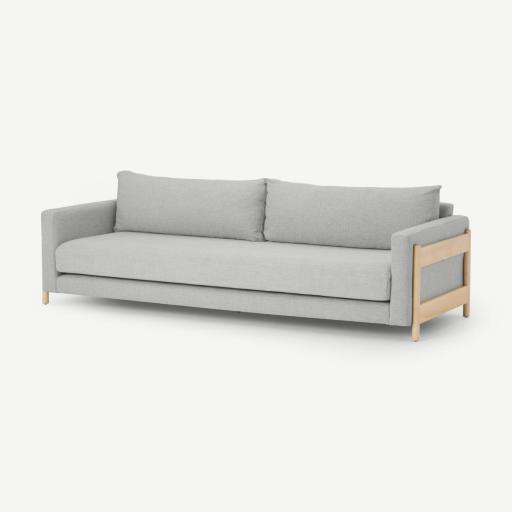back_cushion: (115, 171, 439, 249)
base: (57, 274, 397, 324), (42, 291, 49, 304)
left_arm: (390, 216, 469, 326)
legs: (411, 245, 470, 341)
one-seater: (0, 0, 511, 512)
right_arm: (42, 200, 116, 296)
seat_cushion: (56, 232, 391, 301)
